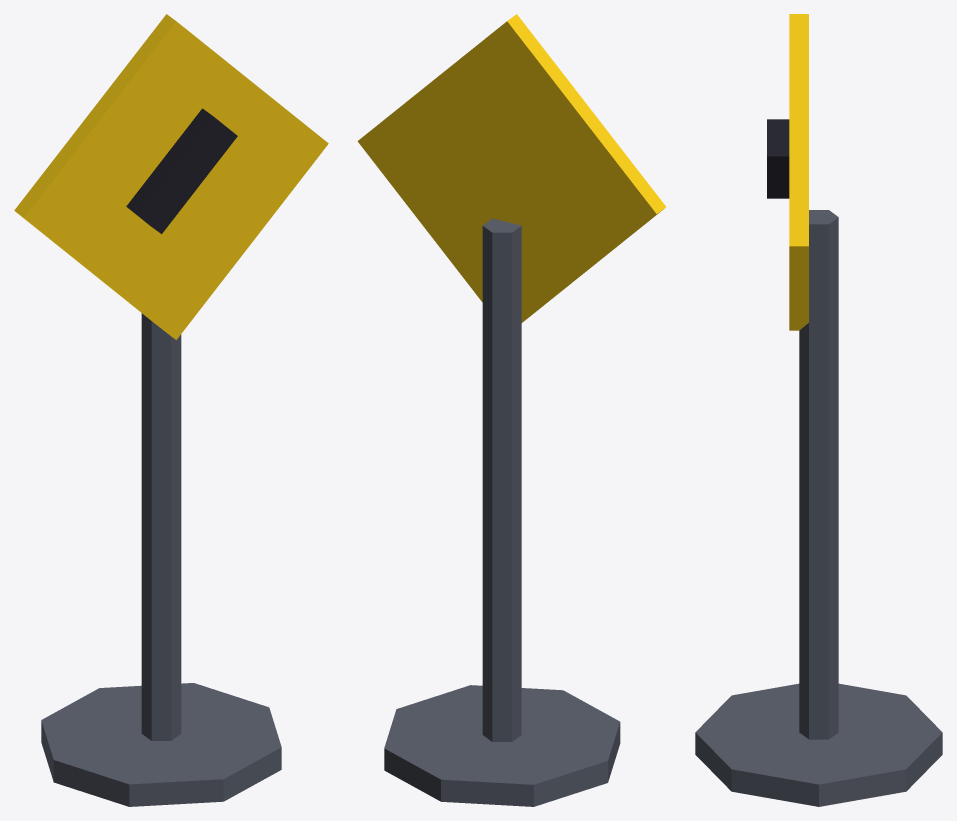
File: stationpack-warning-sign.glb
3 views of the same model, side by side, from view 1: azimuth 30°, elevation 25°; view 2: azimuth 150°, elevation 25°; view 3: azimuth 270°, elevation 25° (orthographic).
Visible parts, largest first — view 1: warning_sign; view 2: warning_sign; view 3: warning_sign.
Part boxes in pixels (x1,y1,x2,y2): warning_sign: (14,14,328,806); warning_sign: (357,14,665,806); warning_sign: (695,14,942,806).
Bounding box in the file's own units: 0.7071 × 1.65 × 0.5.
